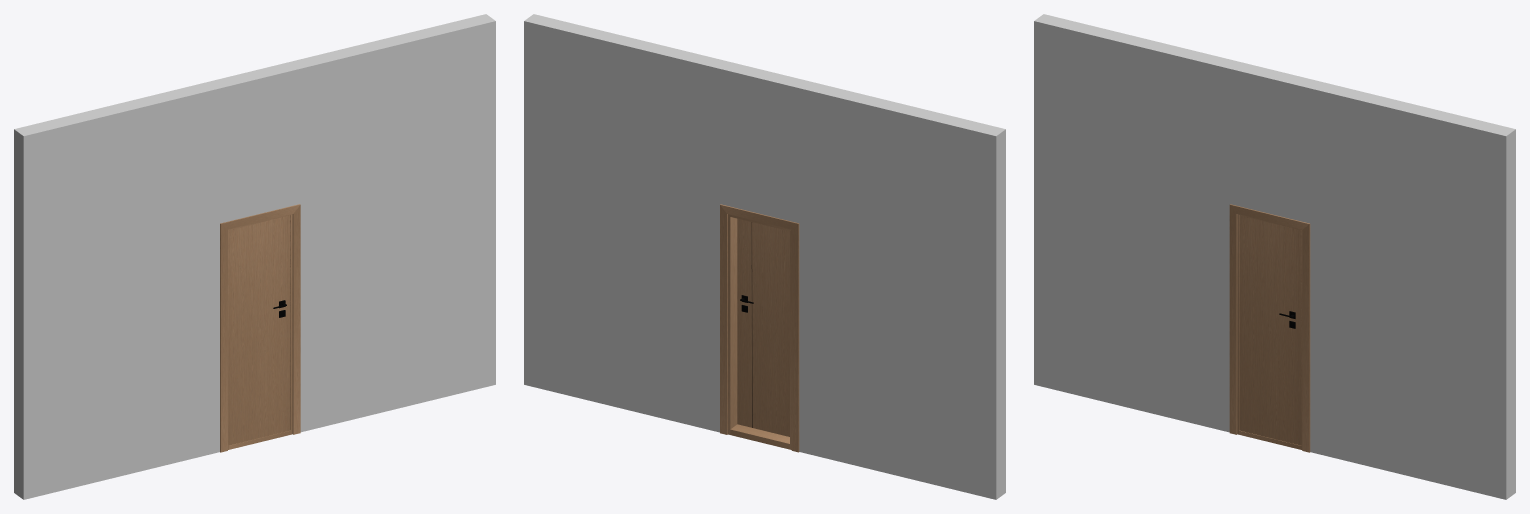
3 views of the same model, side by side, from view 1: azimuth 30°, elevation 25°; view 2: azimuth 150°, elevation 25°; view 3: azimuth 330°, elevation 25° (orthographic).
Visible parts, largest first — view 1: wall_.001, _1_door_, _1_architrave.001, _1_frame.001; view 2: wall_.001, _1_door_, _1_architrave.001, _1_frame.001, _1_threshold.001; view 3: wall_.001, _1_door_, _1_architrave.001, _1_frame.001.
Part boxes in pixels (left/top/right/bottom): wall_.001: left=14, top=14, right=495, bottom=499; _1_door_: left=228, top=215, right=290, bottom=445; _1_architrave.001: left=220, top=204, right=300, bottom=452; _1_frame.001: left=228, top=214, right=292, bottom=449; wall_.001: left=524, top=14, right=1005, bottom=499; _1_door_: left=737, top=218, right=789, bottom=436; _1_architrave.001: left=720, top=204, right=799, bottom=452; _1_frame.001: left=728, top=214, right=791, bottom=449; _1_threshold.001: left=730, top=424, right=789, bottom=449; wall_.001: left=1034, top=14, right=1515, bottom=499; _1_door_: left=1239, top=215, right=1301, bottom=445; _1_architrave.001: left=1229, top=204, right=1310, bottom=452; _1_frame.001: left=1237, top=214, right=1302, bottom=449.
Bounding box in the file's own units: 3.96 × 2.92 × 0.1862.
3 materials, 2 textured.
